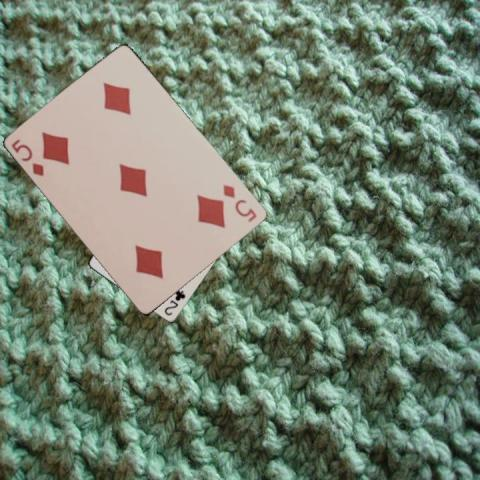2c: (161, 286, 187, 316)
5d: (220, 181, 259, 224), (9, 136, 46, 178)
